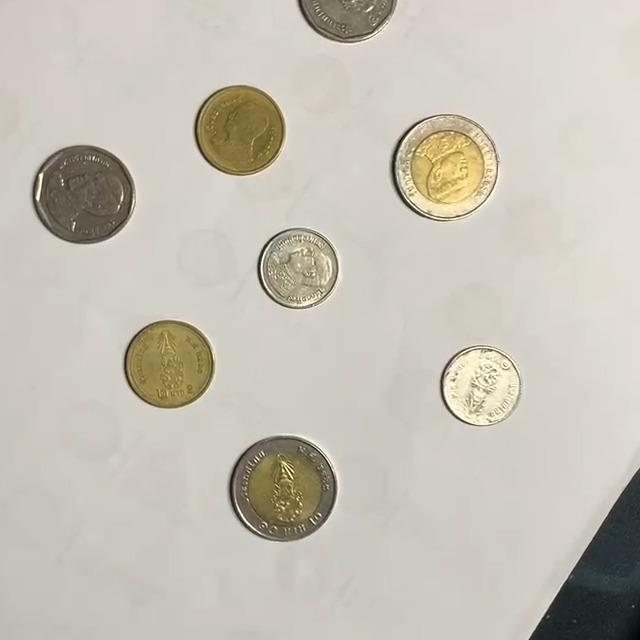1-baht: (440, 346, 525, 428), (258, 228, 341, 310)
10-baht: (393, 114, 501, 221), (231, 436, 339, 542)
2-baht: (195, 85, 287, 176), (124, 320, 217, 409)
5-baht: (32, 145, 138, 245), (297, 0, 400, 45)
